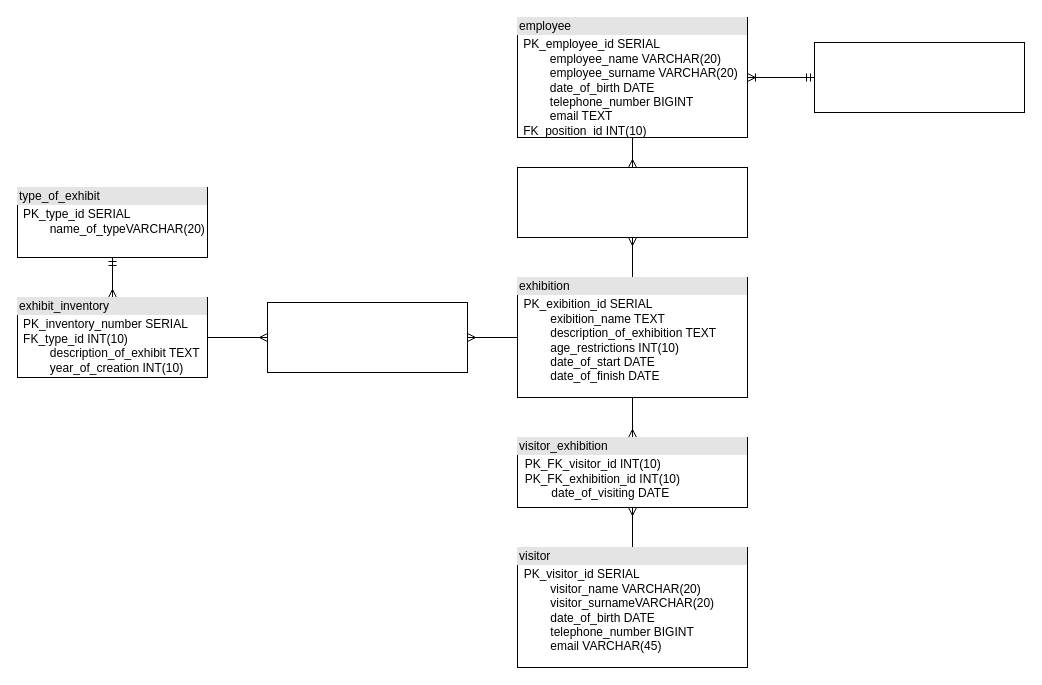
This 1042x685 diagram has some shape labels left out. The centre of each missing label's shape, as x and y in pixels:
"employee_exhibition PK_FK_employee_id INT(10) PK_FK_exhibition_id INT(10)" goes at (x=632, y=202).
"employee_position PK_position_id SERIAL position_name TEXT responsibilities TEXT" goes at (x=919, y=77).
"exhibition_inventory PK_FK_exibition_id INT(10) PK_FK_inventory_number INT(10)" goes at (x=367, y=337).
